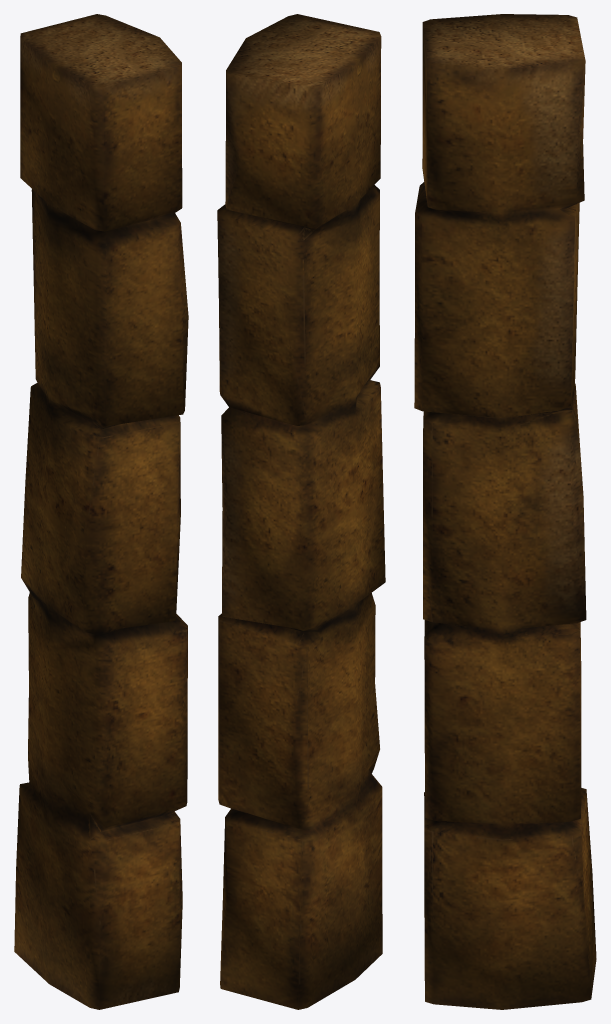
Rendered from Ledge.fbx.
3 renders of one model, left to right at view 1: azimuth 30°, elevation 25°; view 2: azimuth 150°, elevation 25°; view 3: azimuth 270°, elevation 25°, orthographic. The views are drawn at different scales.
Visible parts, largest first — view 1: Ledge; view 2: Ledge; view 3: Ledge.
Boxes of the visible parts, box(x1,y1,x2,y2) form: Ledge: box(14, 14, 188, 1009); Ledge: box(217, 14, 385, 1009); Ledge: box(414, 14, 596, 1009).
Size of the model in its own units: 25 by 200 by 35.
